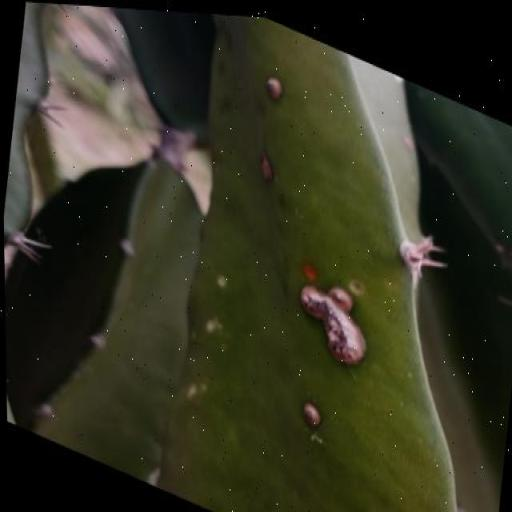stemcanker: (254, 144, 277, 191), (184, 377, 212, 405), (202, 311, 226, 340), (302, 257, 320, 285), (346, 275, 368, 297), (214, 272, 230, 290)
